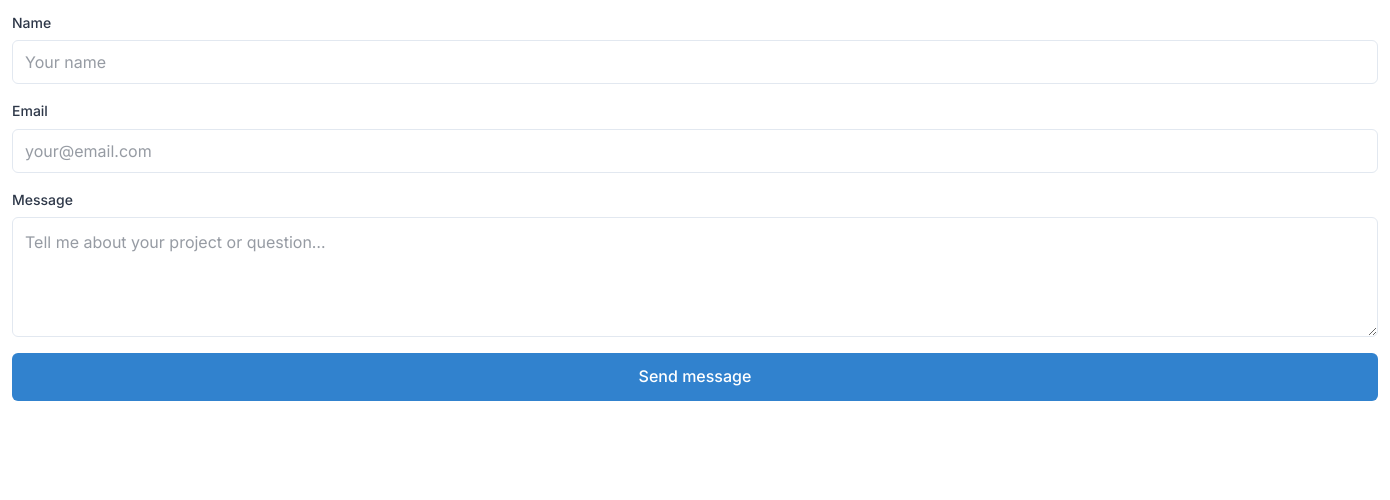
ContactForm — validation › shows an error when the name is missing
Click the button "Send message" at (695, 377), box [12, 353, 1378, 401]
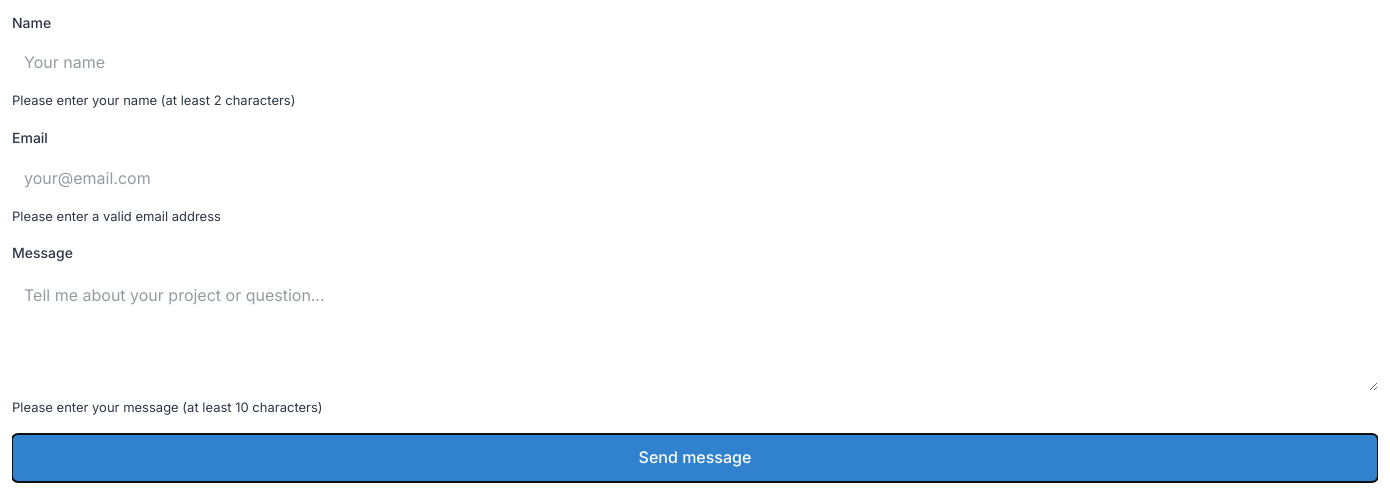
Expected: the text "Please enter your name (at least 2 characters)" is shown, [12, 92, 296, 108]
